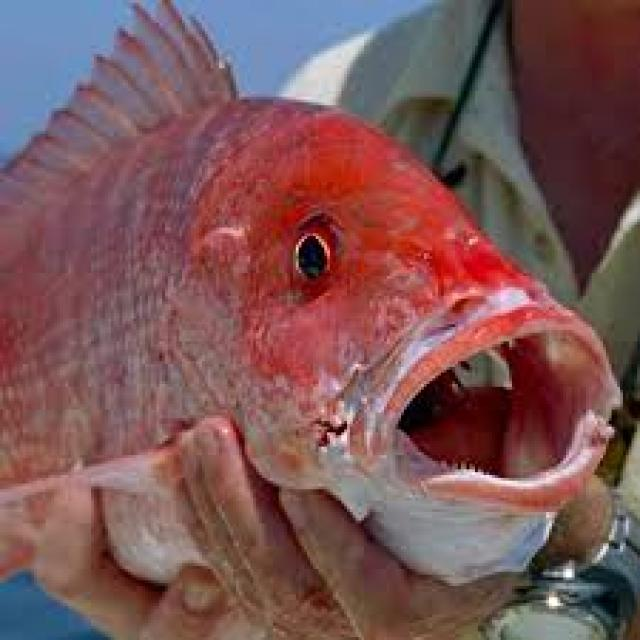northern-red-snapper: (9, 8, 632, 580)
